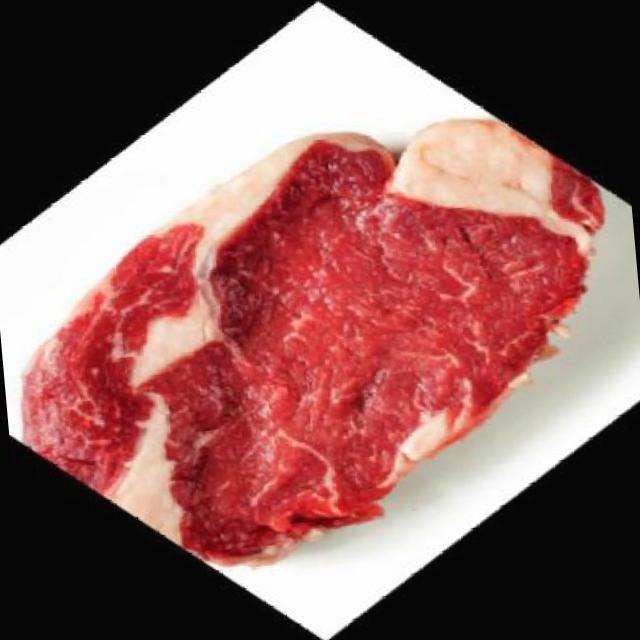beef: (0, 24, 640, 626)
